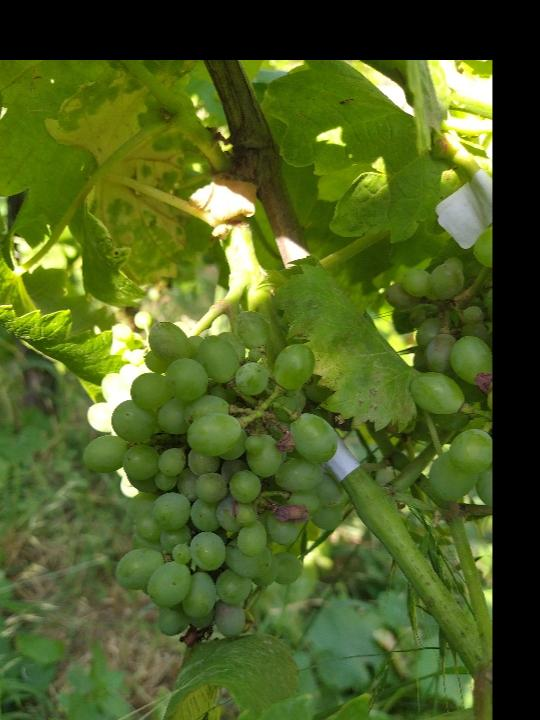grape: (79, 308, 343, 645)
